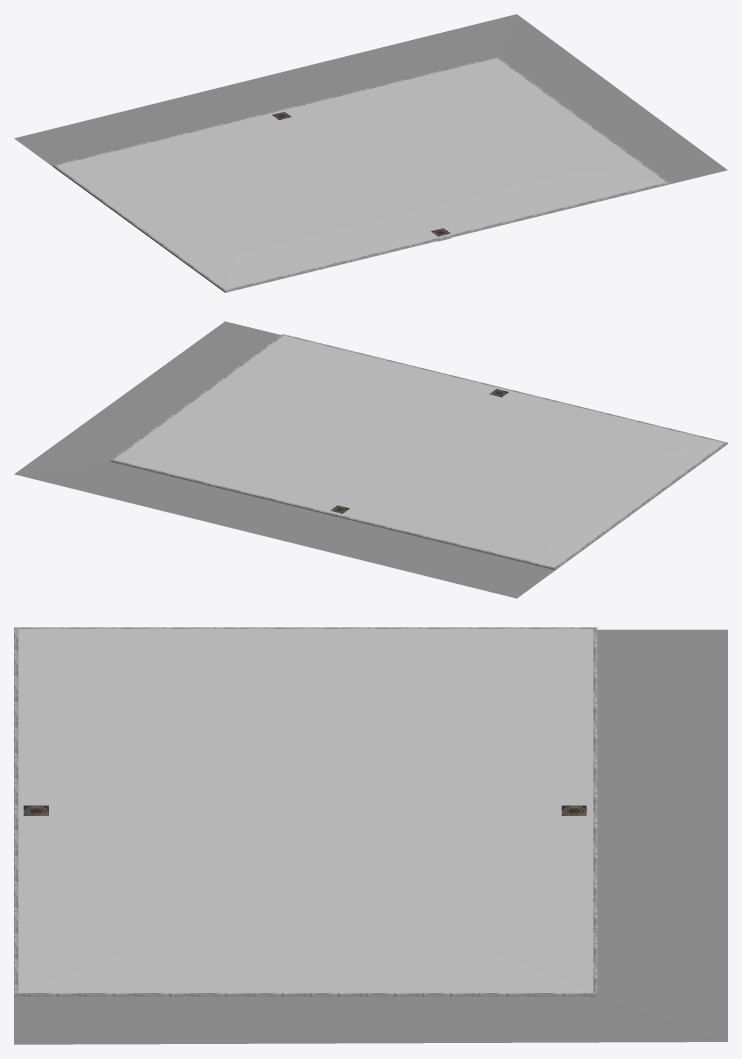
The model's file is street_section3_2.FBX.
3 renders of one model, top to bottom at view 1: azimuth 30°, elevation 25°; view 2: azimuth 150°, elevation 25°; view 3: azimuth 270°, elevation 25°, orthographic. The views are drawn at different scales.
Parts seen in each view (by area): view 1: street_section3_2, street_section3_2_center001; view 2: street_section3_2, street_section3_2_center001; view 3: street_section3_2, street_section3_2_center001.
Boxes of the visible parts, x1,y1,x2,y2 form: street_section3_2: [14, 14, 727, 292]; street_section3_2_center001: [131, 93, 581, 254]; street_section3_2: [14, 321, 727, 598]; street_section3_2_center001: [197, 372, 647, 533]; street_section3_2: [14, 627, 727, 1044]; street_section3_2_center001: [132, 664, 485, 949].
Size of the model in its own units: 3901 by 38.16 by 2837.
